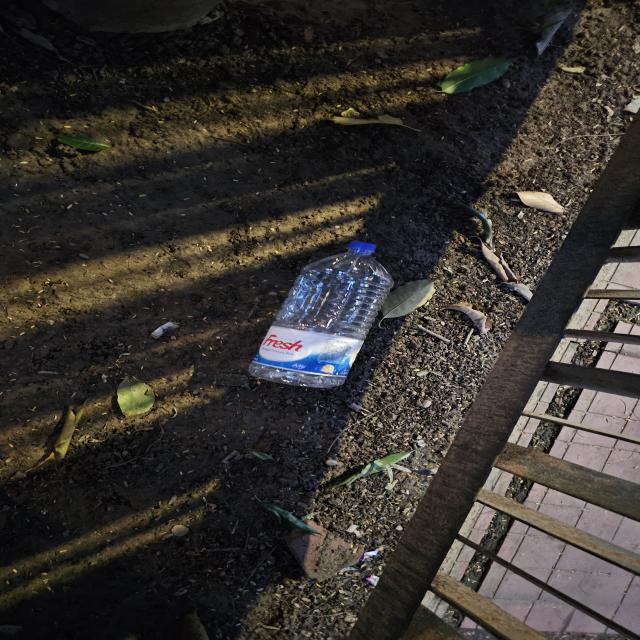artificial_container: (250, 242, 394, 388)
